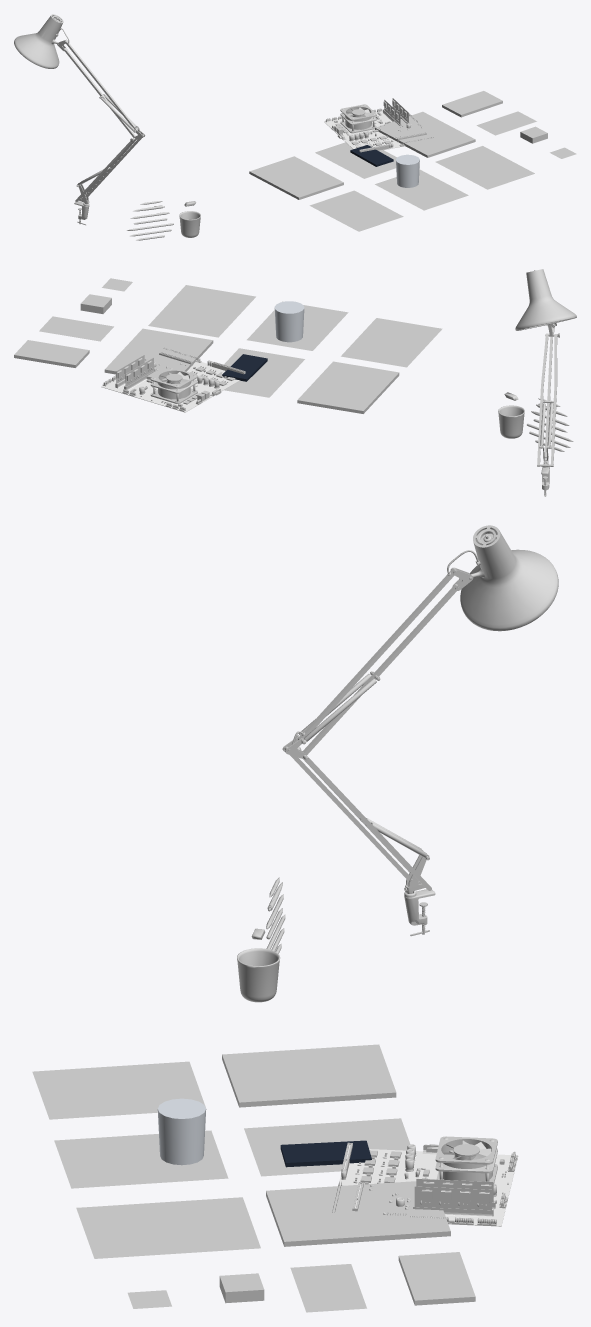
The model's file is props_desk.glb.
The picture shows the model from 3 angles, top to bottom: view 1: azimuth 30°, elevation 25°; view 2: azimuth 150°, elevation 25°; view 3: azimuth 270°, elevation 25°; orthographic projection. The views are drawn at different scales.
Visible parts, largest first — view 1: Box001, Circuit_Trim_Color003_1, object 4, object 6; view 2: Box001, Circuit_Trim_Color003_1, object 4, object 6; view 3: Box001, Circuit_Trim_Color003_1, object 4, object 6.
Part boxes in pixels (x1=…): Box001: x1=14, y1=14, x2=576, y2=240; Circuit_Trim_Color003_1: x1=324, y1=100, x2=407, y2=150; object 4: x1=396, y1=154, x2=419, y2=187; object 6: x1=350, y1=145, x2=393, y2=166; Box001: x1=14, y1=269, x2=576, y2=496; Circuit_Trim_Color003_1: x1=101, y1=358, x2=239, y2=412; object 4: x1=274, y1=301, x2=304, y2=342; object 6: x1=222, y1=354, x2=267, y2=381; Box001: x1=32, y1=525, x2=558, y2=1312; Circuit_Trim_Color003_1: x1=339, y1=1145, x2=518, y2=1226; object 4: x1=157, y1=1098, x2=206, y2=1165; object 6: x1=280, y1=1140, x2=371, y2=1167.
Bounding box in the file's own units: 1.88 × 0.7586 × 0.9121.
